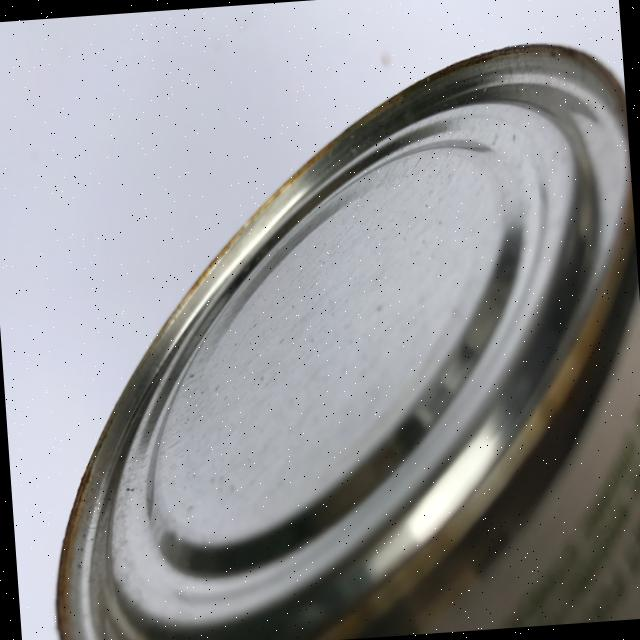metal: (17, 35, 640, 640)
